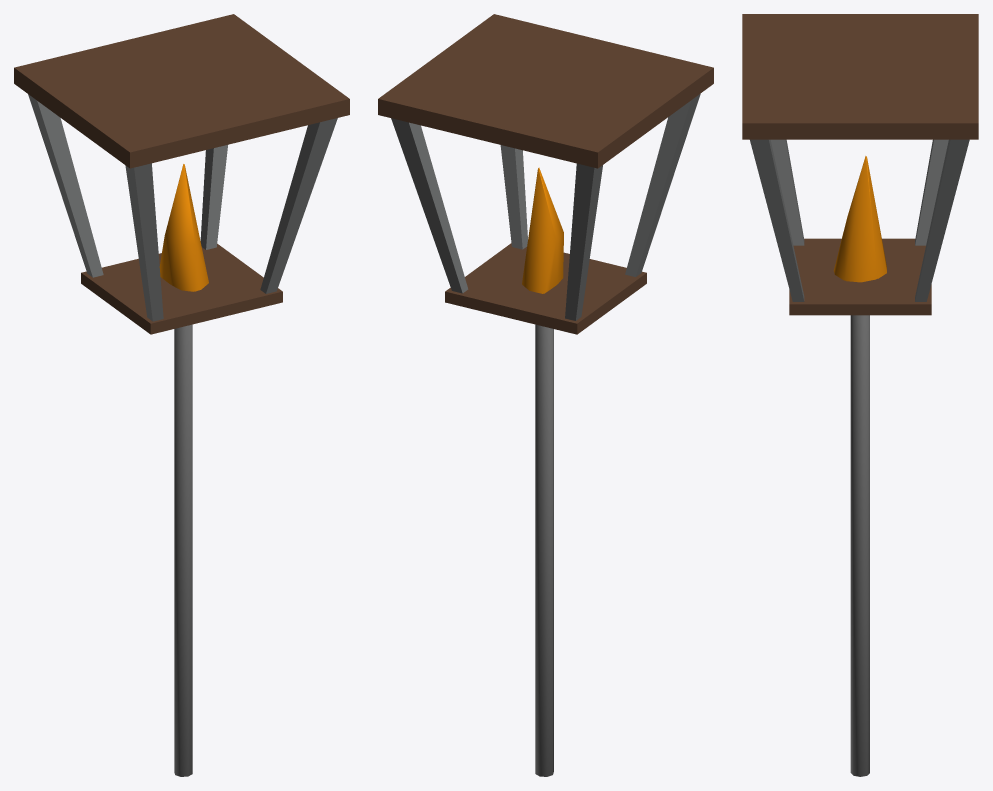
Rendered from light.fbx.
3 views of the same model, side by side, from view 1: azimuth 30°, elevation 25°; view 2: azimuth 150°, elevation 25°; view 3: azimuth 270°, elevation 25° (orthographic).
Parts seen in each view (by area): view 1: Icosphere.043; view 2: Icosphere.043; view 3: Icosphere.043.
Boxes of the visible parts, left/top/right/bottom form: Icosphere.043: left=14, top=14, right=349, bottom=776; Icosphere.043: left=378, top=14, right=713, bottom=776; Icosphere.043: left=742, top=14, right=978, bottom=776.
Size of the model in its own units: 70.53 by 212 by 64.45.
